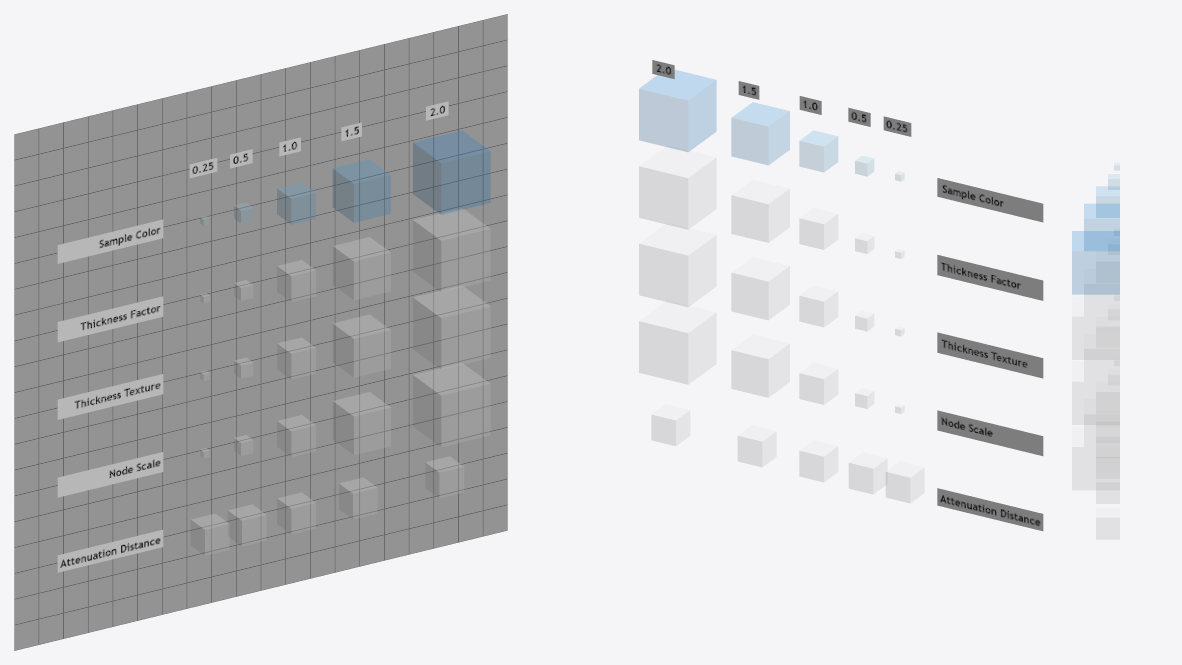
Rendered from AttenuationTest.glb.
3 views of the same model, side by side, from view 1: azimuth 30°, elevation 25°; view 2: azimuth 150°, elevation 25°; view 3: azimuth 270°, elevation 25° (orthographic). The views are drawn at different scales.
Parts seen in each view (by area): view 1: MeterGrid, Labels, R3_Block_Row, R1_Sample_2.0, R2_Block_2.0, R4_Block_2.0, R4_Block_1.5, R2_Block_1.5, R1_Sample_1.5, R5_Block_0.50, R4_Block_1.0, R5_Block_1.0 (+5 smaller); view 2: Labels, R3_Block_Row, R2_Block_2.0, R4_Block_2.0, R1_Sample_2.0, R1_Sample_1.5, R2_Block_1.5, R4_Block_1.5, R5_Block_2.0, R2_Block_1.0, R4_Block_1.0, R5_Block_1.5 (+4 smaller); view 3: R3_Block_Row, R2_Block_2.0, R1_Sample_2.0, R4_Block_2.0, R4_Block_1.5, R2_Block_1.5, R1_Sample_1.5, R5_Block_2.0, R1_Sample_1.0, R5_Block_1.5, R5_Block_1.0, R2_Block_1.0 (+2 smaller).
Boxes of the visible parts, x1,y1,x2,y2 form: MeterGrid: (14, 14, 507, 650); Labels: (57, 101, 448, 572); R3_Block_Row: (200, 286, 490, 380); R1_Sample_2.0: (413, 131, 490, 214); R2_Block_2.0: (413, 208, 490, 291); R4_Block_2.0: (413, 363, 490, 446); R4_Block_1.5: (333, 392, 390, 454); R2_Block_1.5: (333, 237, 390, 299); R1_Sample_1.5: (333, 160, 390, 222); R5_Block_0.50: (228, 505, 266, 546); R4_Block_1.0: (277, 415, 315, 456); R5_Block_1.0: (277, 493, 315, 534); Labels: (652, 60, 1043, 531); R3_Block_Row: (639, 223, 904, 335); R2_Block_2.0: (639, 146, 716, 229); R4_Block_2.0: (639, 301, 716, 384); R1_Sample_2.0: (639, 70, 716, 151); R1_Sample_1.5: (731, 102, 789, 164); R2_Block_1.5: (731, 180, 789, 242); R4_Block_1.5: (731, 335, 789, 397); R5_Block_2.0: (651, 404, 689, 445); R2_Block_1.0: (799, 208, 837, 249); R4_Block_1.0: (799, 363, 837, 404); R5_Block_1.5: (738, 425, 776, 466); R3_Block_Row: (1072, 294, 1119, 424); R2_Block_2.0: (1072, 296, 1119, 359); R1_Sample_2.0: (1072, 231, 1119, 294); R4_Block_2.0: (1072, 427, 1119, 489); R4_Block_1.5: (1084, 399, 1119, 446); R2_Block_1.5: (1084, 269, 1119, 315); R1_Sample_1.5: (1084, 204, 1119, 250); R5_Block_2.0: (1096, 508, 1119, 539); R1_Sample_1.0: (1096, 186, 1119, 217); R5_Block_1.5: (1096, 473, 1119, 503); R5_Block_1.0: (1096, 447, 1119, 472); R2_Block_1.0: (1096, 252, 1119, 268).
Bounding box in the file's own units: 20 × 20 × 4.
18 materials, 2 textured.
